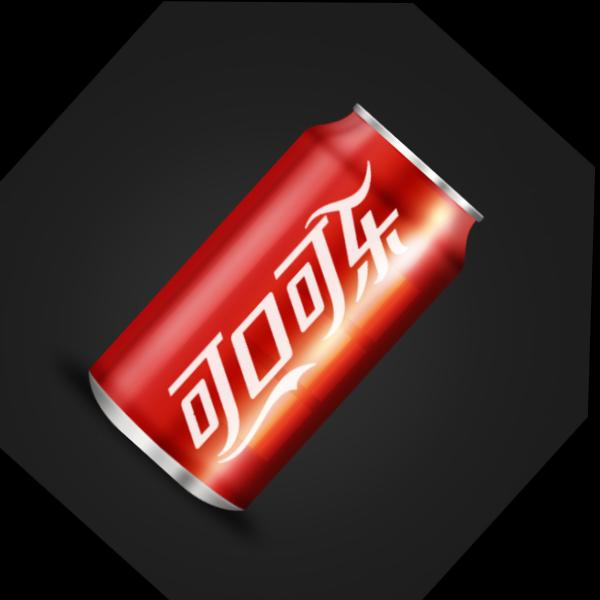metal: (89, 104, 482, 510)
